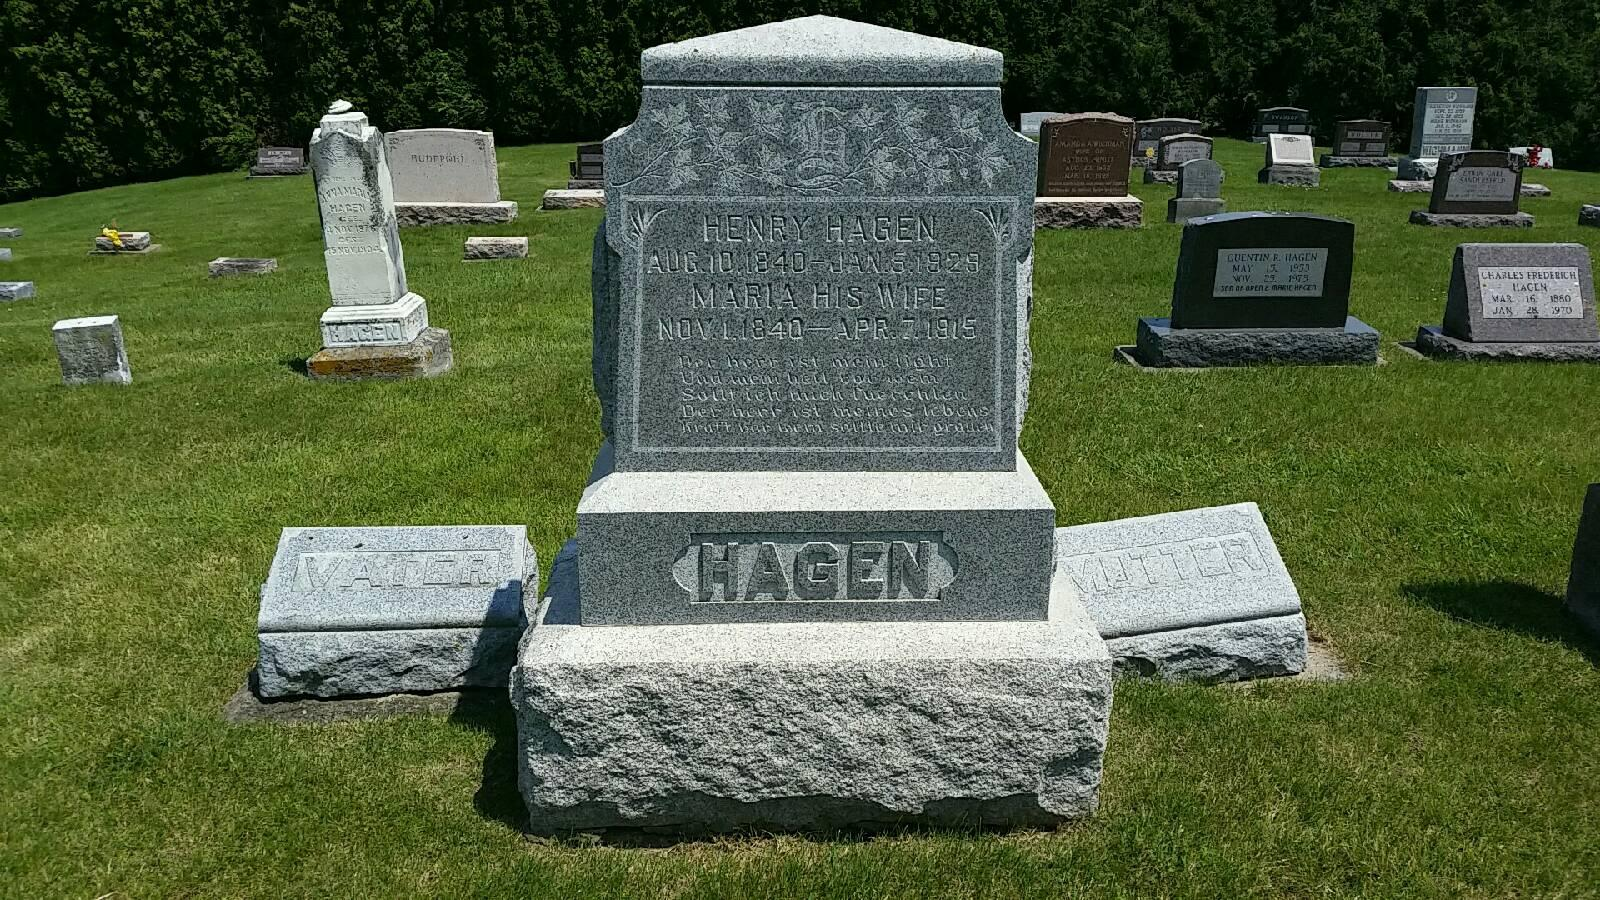upright: (493, 2, 1115, 851)
